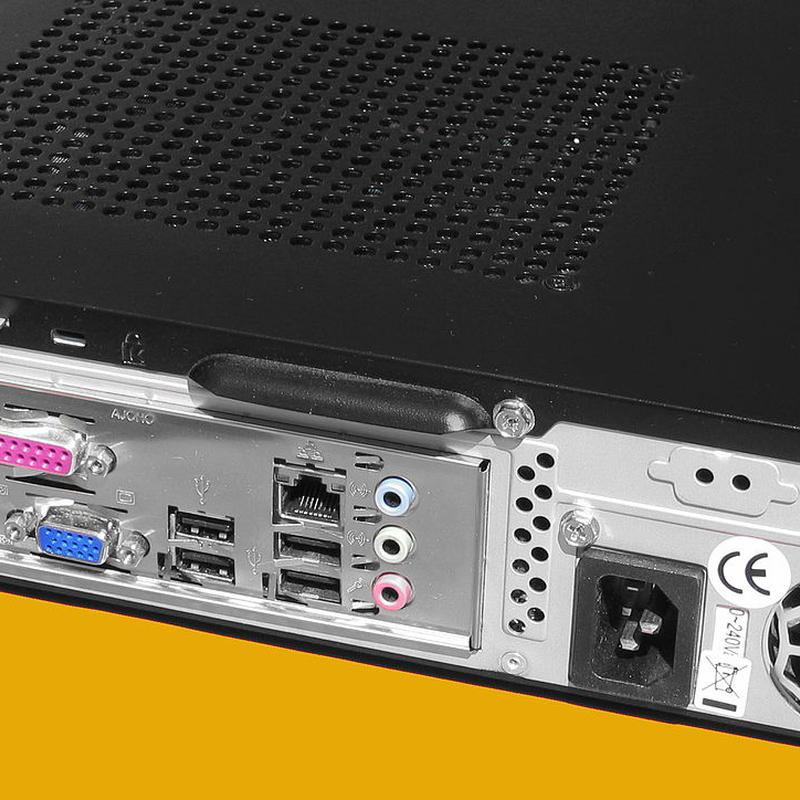AUDIO: (359, 461, 423, 516)
AUDIO_INPUT: (355, 566, 424, 623)
AUDIO_OUTPUT: (358, 525, 429, 564)
ETHERNET: (264, 441, 348, 526)
PARALLEL: (0, 414, 112, 485)
POWER: (547, 513, 732, 727)
USB: (159, 495, 246, 544), (266, 571, 350, 614), (267, 529, 353, 566), (166, 547, 237, 590)
VGA: (1, 498, 148, 588)
